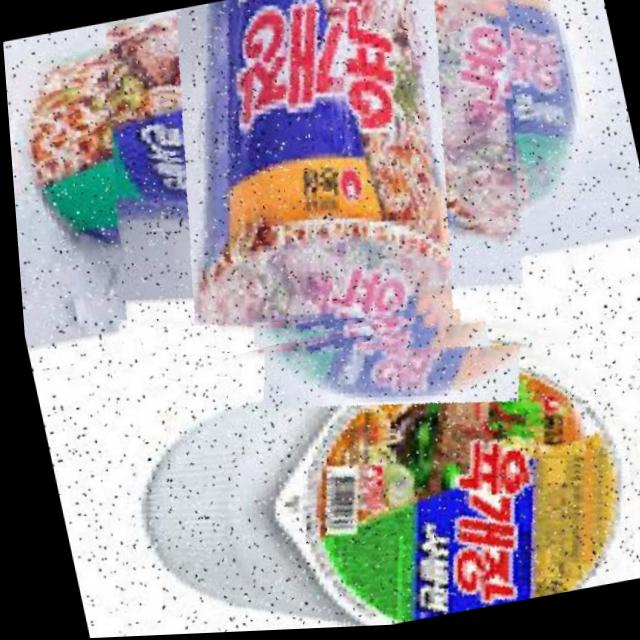Miscellaneous: (63, 260, 640, 638), (71, 0, 561, 370)
